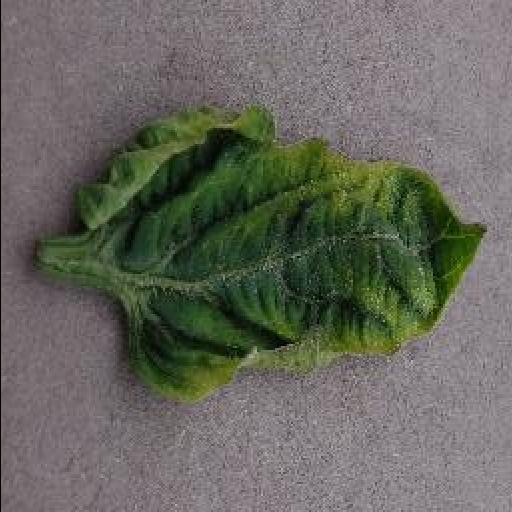disease_tomato: (67, 104, 489, 402)
